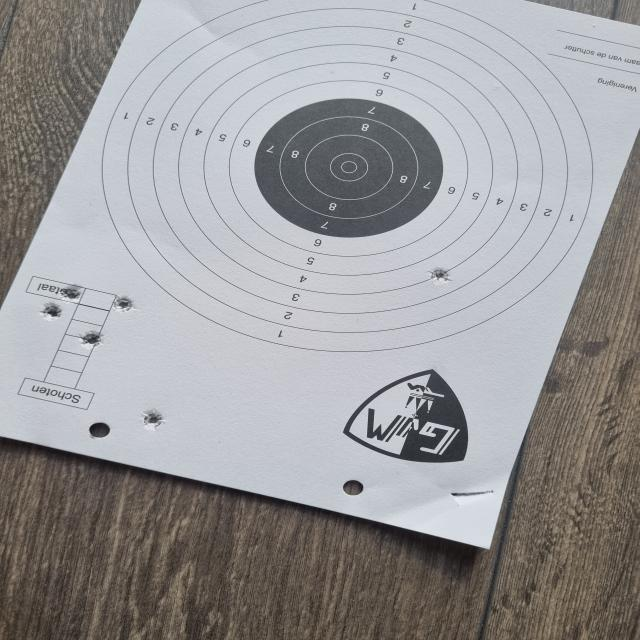5: (428, 268, 452, 284)
Black Contour: (250, 96, 446, 242)
Target: (99, 4, 594, 356)
hole: (136, 410, 166, 430), (80, 330, 106, 348), (40, 301, 63, 320), (60, 284, 84, 302), (112, 296, 135, 314)
